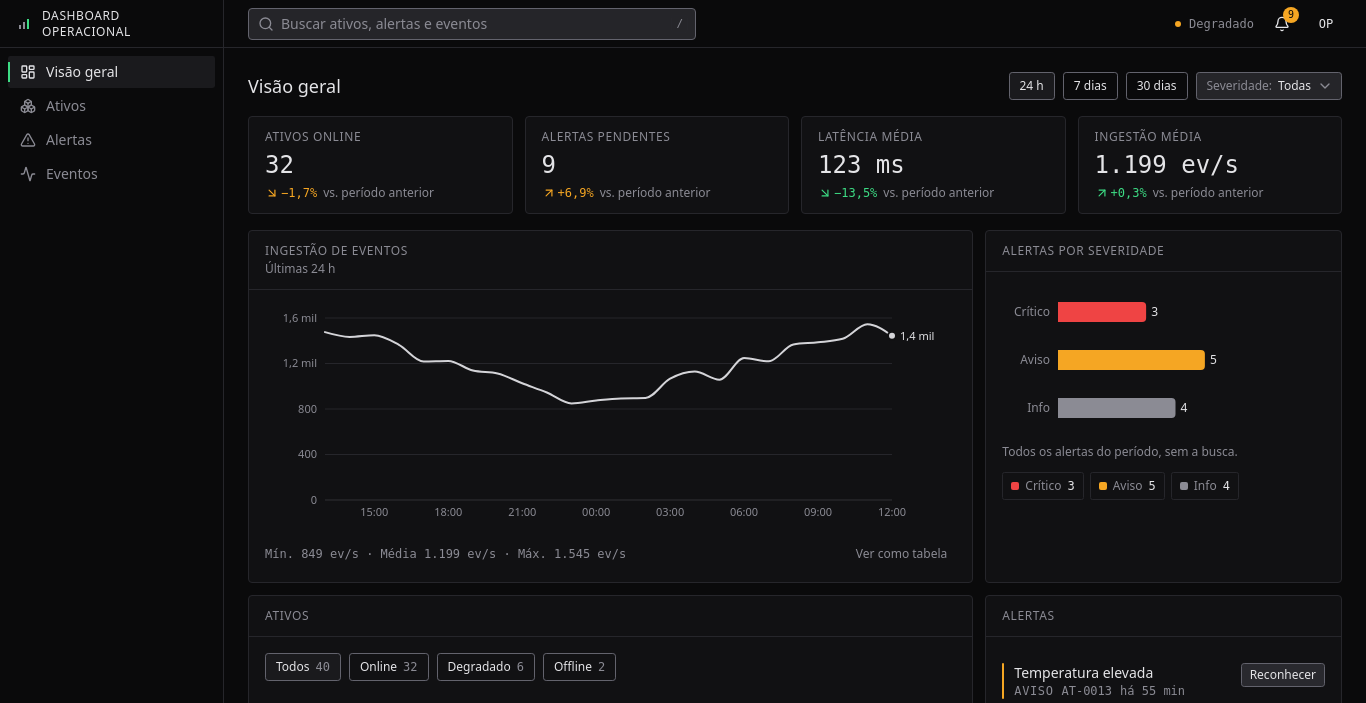
Test case: acessibilidade (axe) › menu de notificações aberto, sem violações
Step 1. Click the button named "Notificações" → (1282, 24), box [1266, 8, 1298, 40]
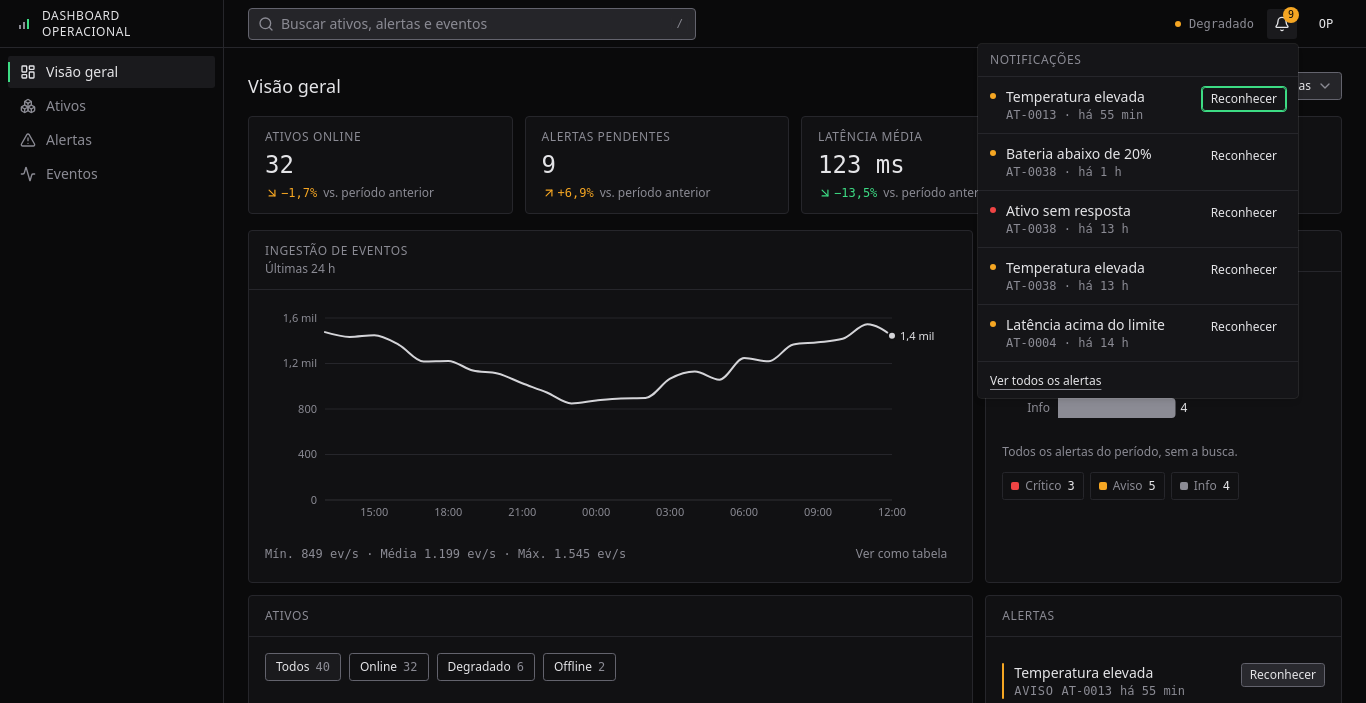
Check: the list named "Alertas pendentes" is shown, box [978, 77, 1298, 361]
